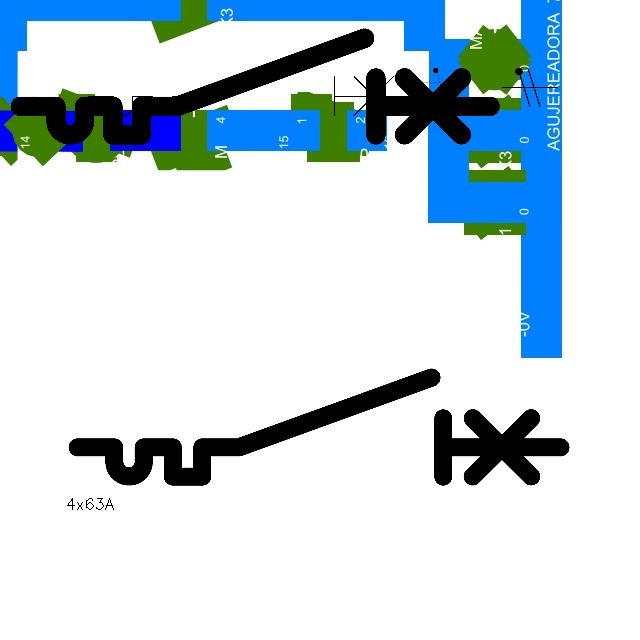interruptor_termomagnetico: (65, 365, 572, 489), (8, 26, 502, 147), (80, 41, 421, 124)
